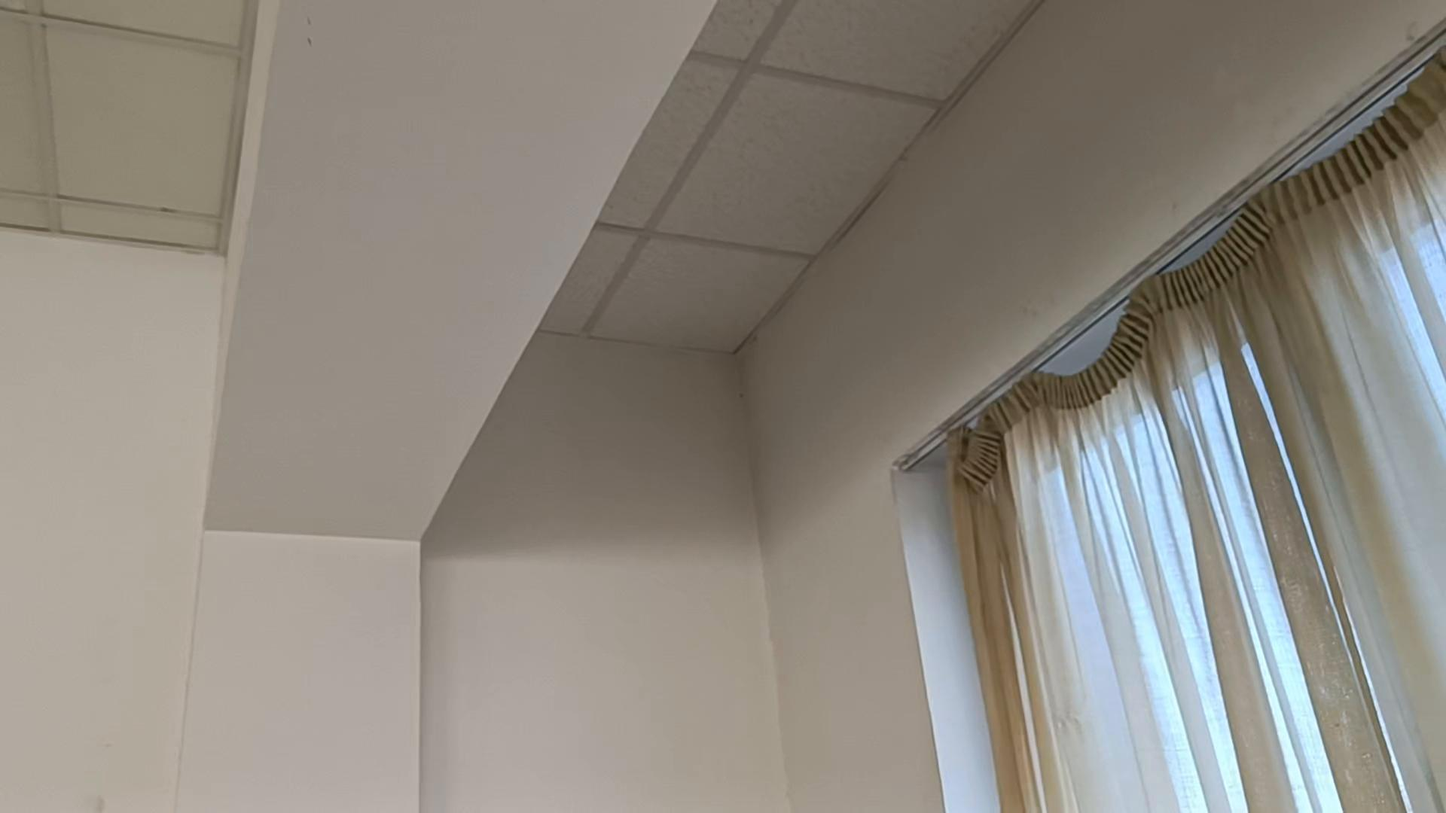ceiling: (215, 4, 705, 539), (540, 0, 1035, 352), (0, 5, 260, 256)
wall: (426, 4, 1443, 812), (0, 223, 420, 812)
